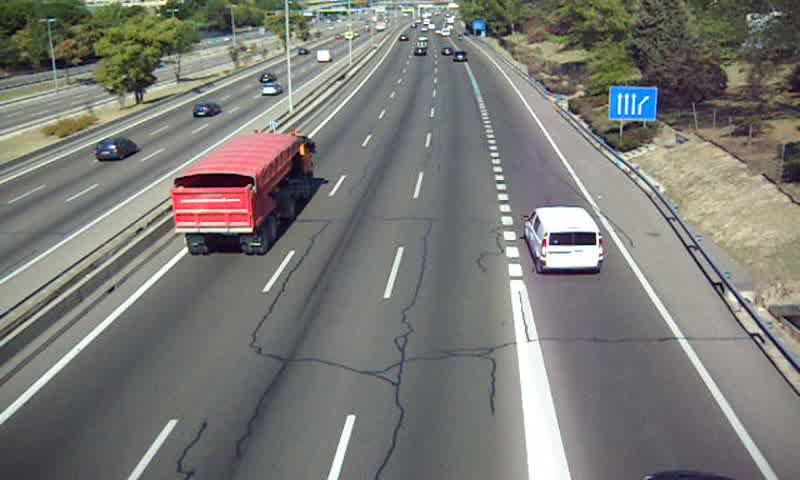truck: (170, 132, 314, 256)
van: (521, 206, 603, 273)
